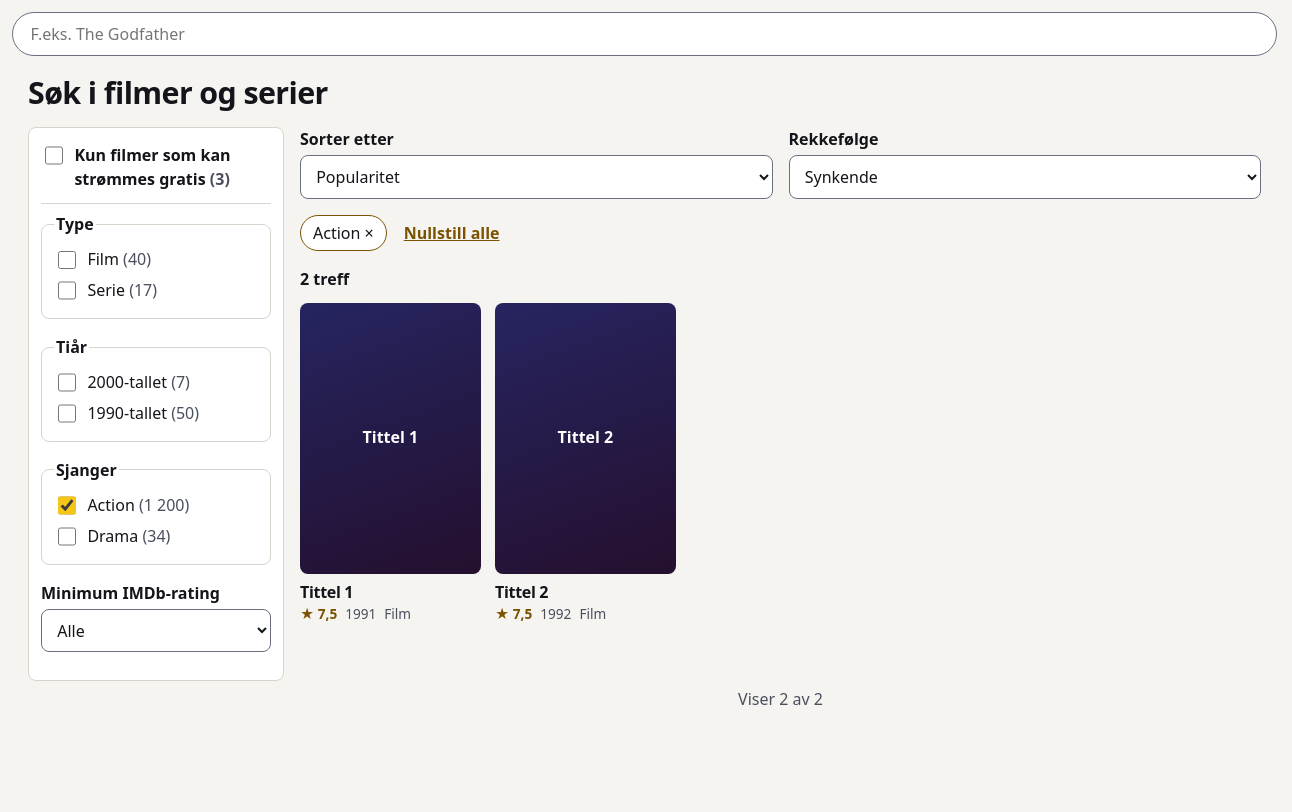
HomePage: fokus når kontroller forsvinner › når siste filter fjernes og visningen byttes til bla-modus, får h1 fokus
Check: the link "Tittel 1" is shown, box [300,582,353,602]
Click the button "Action ×" at (343, 232), box [300,214,387,250]
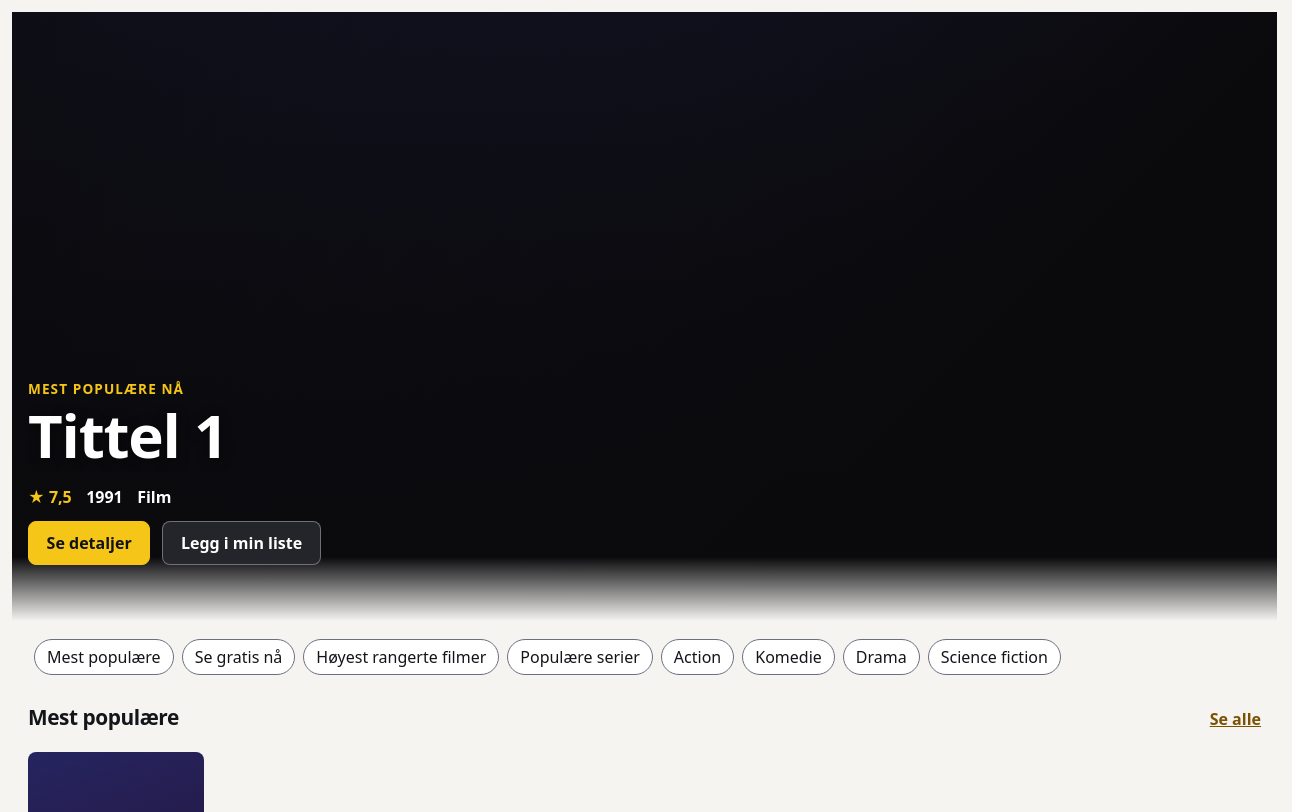
Check: the element "Filtre" is gone
